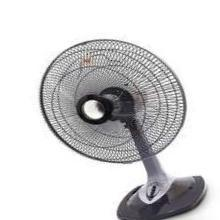fan: (0, 37, 216, 220)
